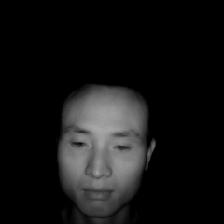normal: (42, 79, 168, 221)
